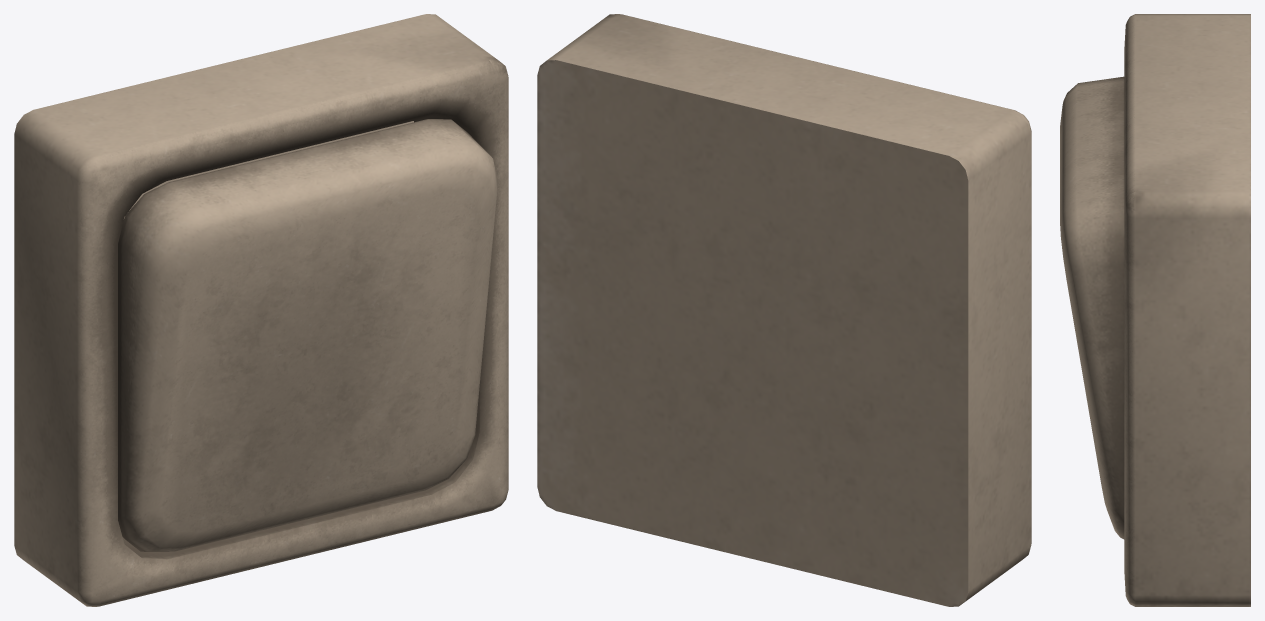
File: Lightswitch.glb
3 renders of one model, left to right at view 1: azimuth 30°, elevation 25°; view 2: azimuth 150°, elevation 25°; view 3: azimuth 270°, elevation 25°, orthographic. The views are drawn at different scales.
Parts seen in each view (by area): view 1: LightswitchButton, Lightswitch; view 2: Lightswitch; view 3: Lightswitch, LightswitchButton.
Part boxes in pixels (x1,y1,x2,y2): LightswitchButton: (118,119,497,551); Lightswitch: (14,14,508,606); Lightswitch: (537,14,1031,606); Lightswitch: (1124,14,1250,606); LightswitchButton: (1060,76,1124,539).
Bounding box in the file's own units: 14 × 14 × 5.86.
1 material, 1 textured.
